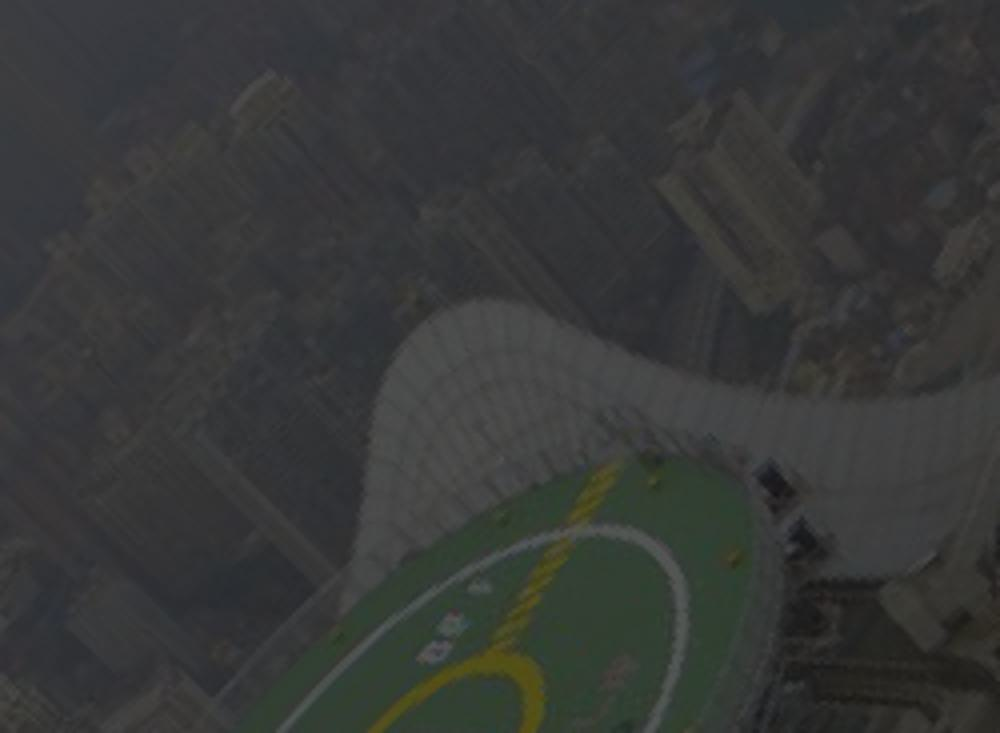Apron: (371, 649, 556, 733)
